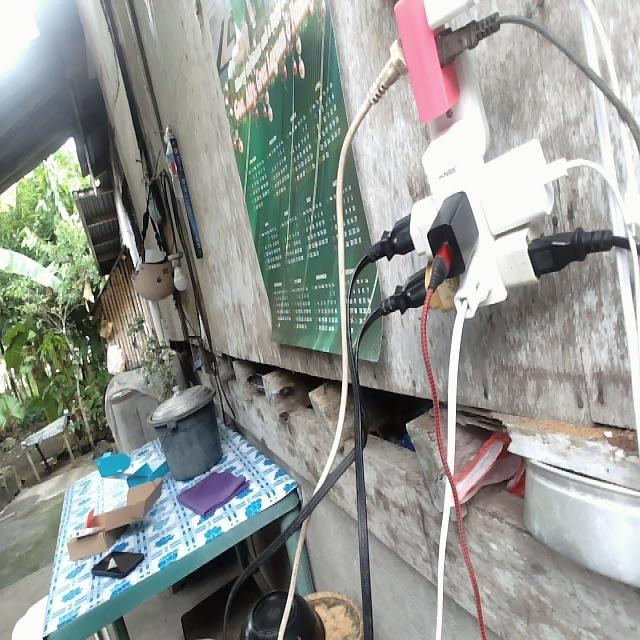-: (363, 0, 572, 317)
